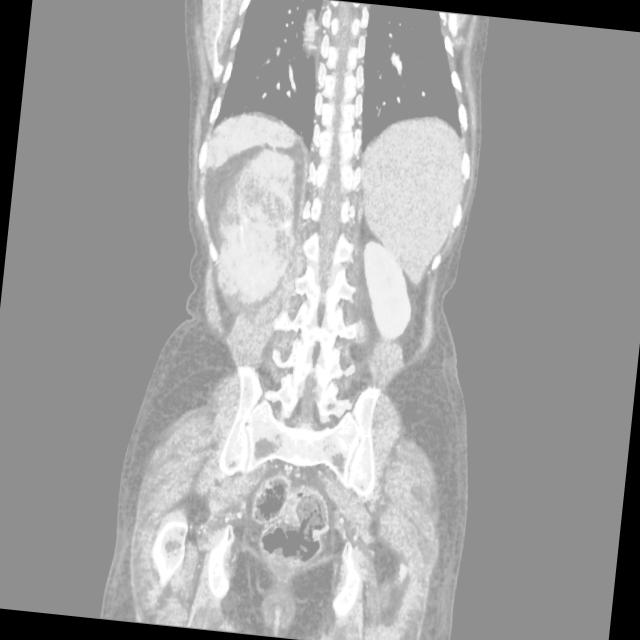TUMOR: (136, 193, 472, 388)
